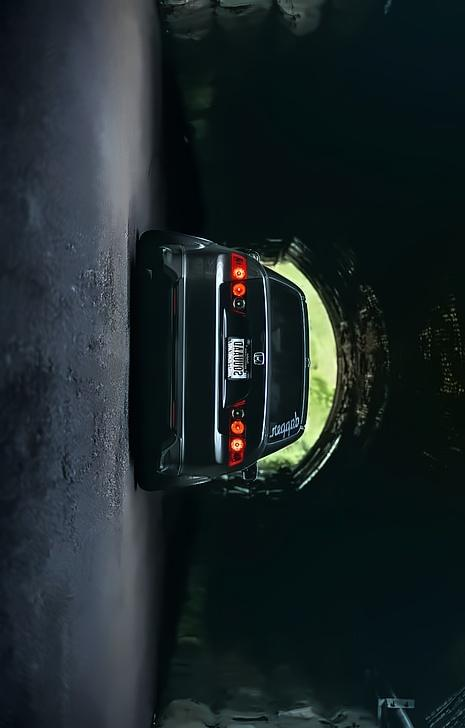Car boot: (215, 252, 272, 482)
Rear bumper: (151, 232, 224, 483)
Rear light - -L-: (227, 249, 249, 318)
Rear light - -R-: (223, 404, 246, 468)
